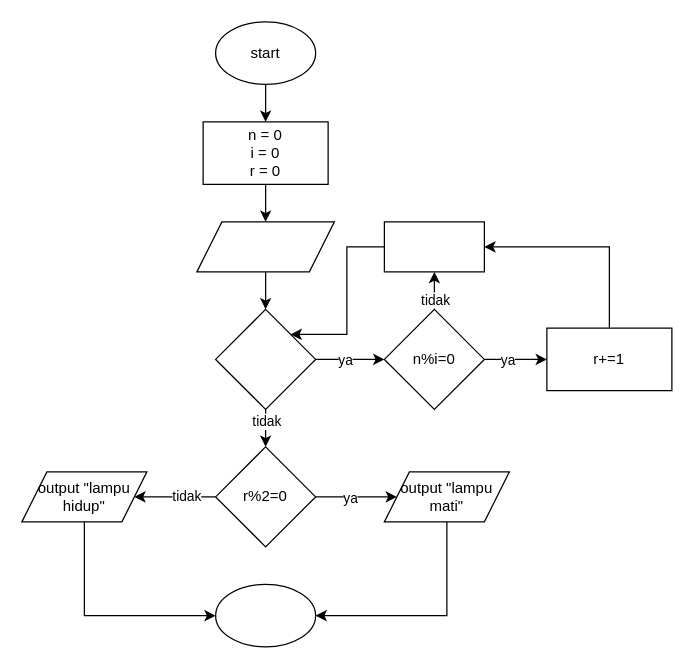
The diagram is 694 pixels wide and 669 high, and some of its shapes have lost their labels. Each missing label, with the centre of its shape:
"end" goes at point (265, 615).
"i+=1" goes at point (433, 246).
"i<=n" goes at point (265, 358).
"masukkan angka(n)" goes at point (265, 246).
